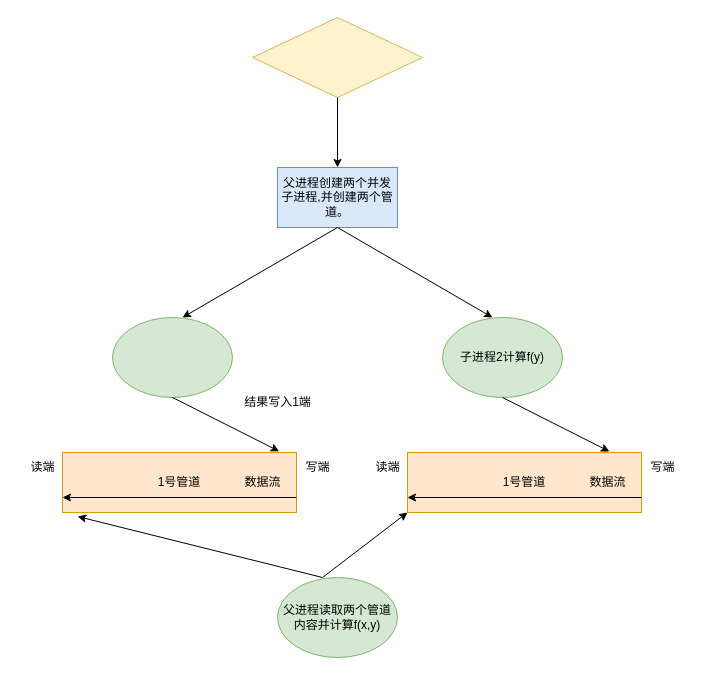
Some shapes in this 704 by 675 pixel diagram are drawn without their labels. The centre of each missing label's shape, as x and y in pixels:
"子进程1计算f(x)" goes at [172,357].
"用户输入x,y" goes at [337,57].
